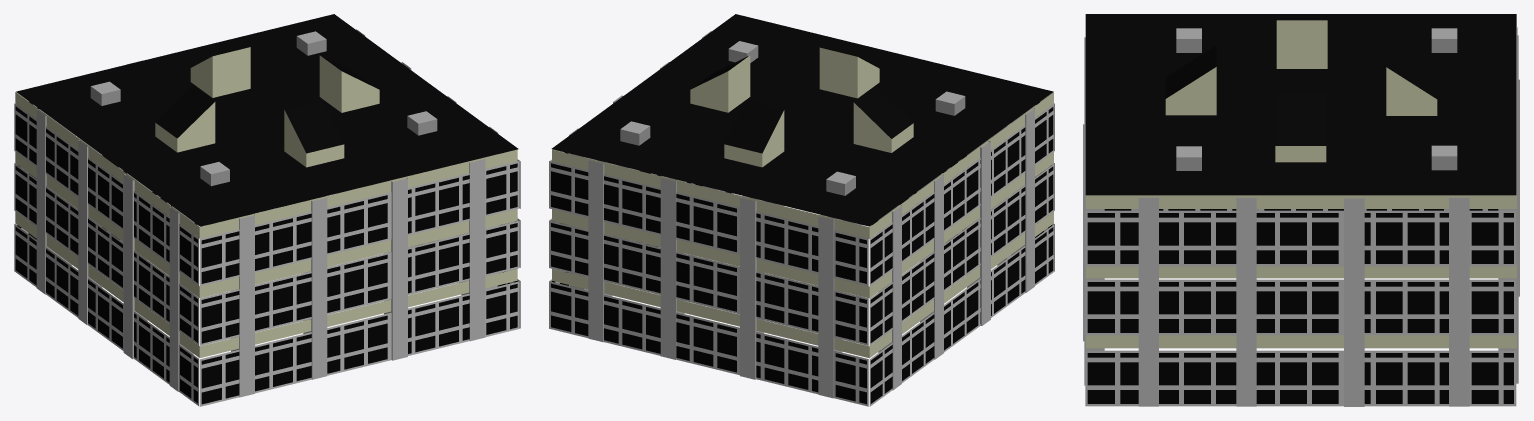
File: 1950s-concrete-terminal.dae
The picture shows the model from 3 angles, left to right: view 1: azimuth 30°, elevation 25°; view 2: azimuth 150°, elevation 25°; view 3: azimuth 270°, elevation 25°; orthographic projection. The views are drawn at different scales.
Parts seen in each view (by area): view 1: Plane_010, Plane_006, Plane_003, Plane_014, Plane_013, Plane_009, Plane_005, Plane_004, Plane_002, Plane_001, Cube_023, Cube_022 (+16 smaller); view 2: Plane_010, Plane_011, Plane_008, Plane_016, Plane_005, Plane_009, Plane_013, Plane_004, Plane_002, Plane_001, Cube_012, Cube_013 (+16 smaller); view 3: Plane_010, Plane_007, Plane_015, Plane_012, Plane_004, Plane_002, Plane_001, Cube_026, Cube_025, Cube_024, Cube_020, Cube_027 (+15 smaller).
Part boxes in pixels (bbox=[...]): Plane_010: bbox=[16, 14, 518, 226]; Plane_006: bbox=[199, 161, 519, 286]; Plane_003: bbox=[199, 281, 519, 406]; Plane_014: bbox=[199, 220, 519, 345]; Plane_013: bbox=[14, 163, 198, 345]; Plane_009: bbox=[14, 224, 198, 405]; Plane_005: bbox=[14, 103, 198, 285]; Plane_004: bbox=[15, 92, 517, 238]; Plane_002: bbox=[15, 182, 517, 357]; Plane_001: bbox=[15, 136, 517, 298]; Cube_023: bbox=[461, 157, 485, 341]; Cube_022: bbox=[303, 197, 327, 379]; Plane_010: bbox=[551, 14, 1053, 226]; Plane_011: bbox=[549, 220, 868, 345]; Plane_008: bbox=[549, 161, 868, 286]; Plane_016: bbox=[549, 281, 868, 406]; Plane_005: bbox=[869, 104, 1054, 286]; Plane_009: bbox=[869, 224, 1054, 406]; Plane_013: bbox=[869, 164, 1054, 345]; Plane_004: bbox=[552, 92, 1053, 238]; Plane_002: bbox=[552, 181, 1053, 358]; Plane_001: bbox=[552, 137, 1053, 298]; Cube_012: bbox=[740, 196, 763, 379]; Cube_013: bbox=[660, 176, 684, 359]; Plane_010: bbox=[1085, 14, 1516, 195]; Plane_007: bbox=[1085, 210, 1516, 266]; Plane_015: bbox=[1085, 350, 1516, 406]; Plane_012: bbox=[1085, 279, 1516, 335]; Plane_004: bbox=[1086, 14, 1516, 208]; Plane_002: bbox=[1086, 334, 1516, 348]; Plane_001: bbox=[1086, 264, 1516, 278]; Cube_026: bbox=[1344, 198, 1364, 406]; Cube_025: bbox=[1236, 198, 1256, 406]; Cube_024: bbox=[1449, 198, 1469, 406]; Cube_020: bbox=[1138, 198, 1158, 406]; Cube_027: bbox=[1275, 92, 1326, 145].
Size of the model in its own units: 8.54 by 8.54 by 5.58.
